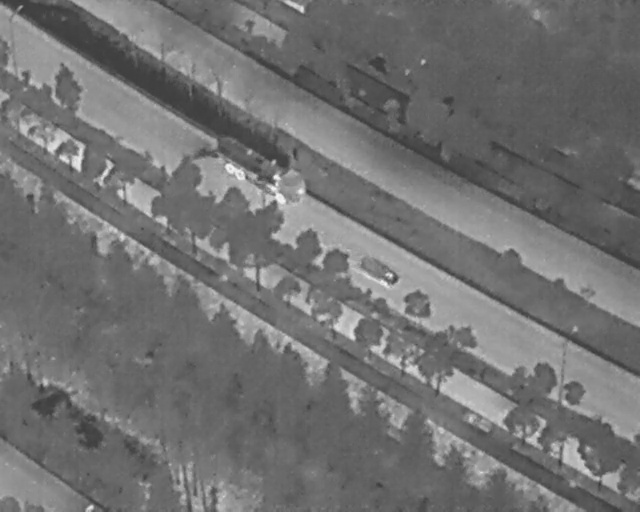Car: (356, 254, 401, 287)
OtherVehicle: (204, 129, 315, 212)
